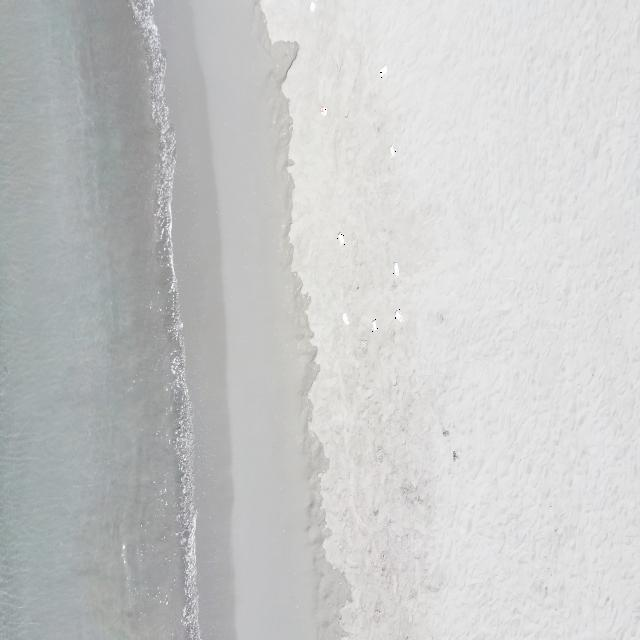retort-pouch: (394, 309, 404, 323), (378, 64, 388, 78), (337, 230, 346, 245), (342, 312, 350, 326), (388, 144, 396, 158), (310, 0, 318, 14), (371, 318, 378, 333), (393, 262, 400, 276), (320, 106, 328, 116)
